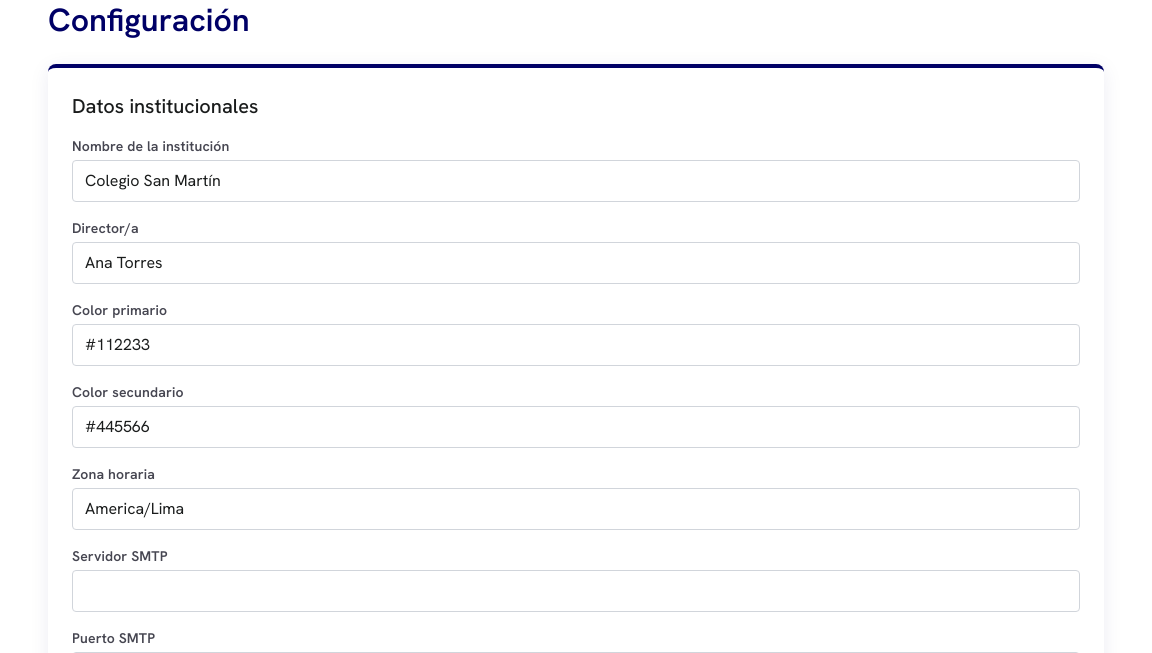
Test case: ConfiguracionPage — carga y wiring de PanelDatosInstitucionales (Fase 12) › [12.3] guardado exitoso incrementa version y remonta el formulario con los valores devueltos
This screenshot has width=1152, height=653.
Replace the text in the field labelled "Nombre de la institución" with "Nombre intentado por el usuario" at (576, 181), box top-left (72, 160), bottom-right (1080, 202)
(page scrolled)
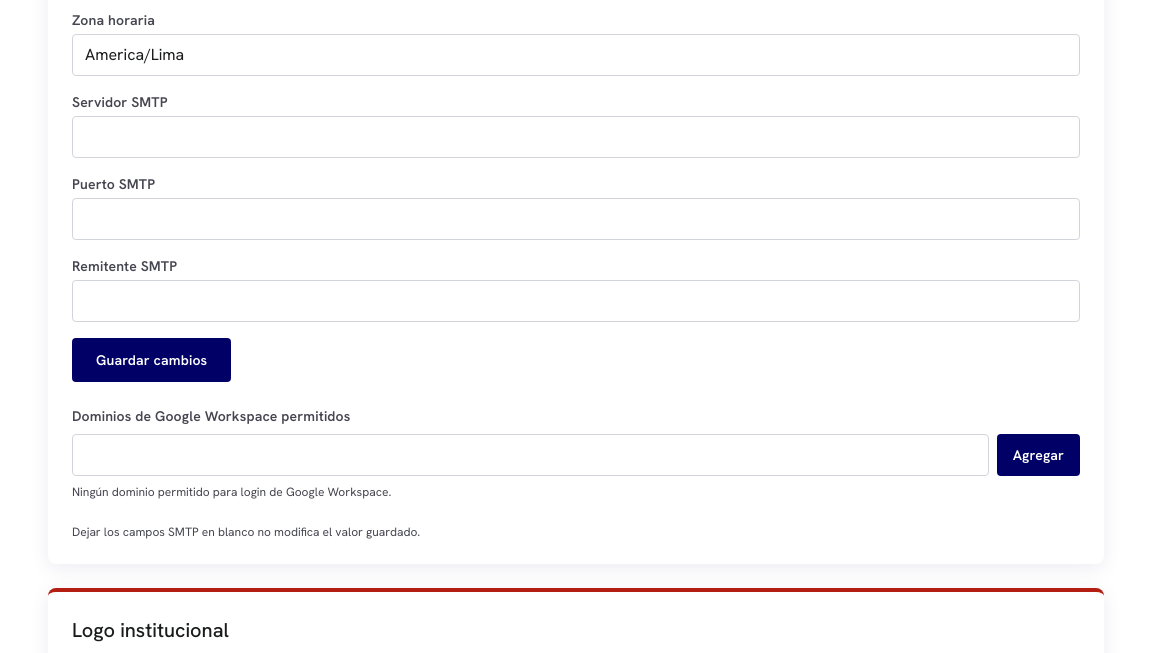
Click the button "Guardar cambios" at (152, 360), box top-left (72, 338), bottom-right (231, 382)
(page scrolled)
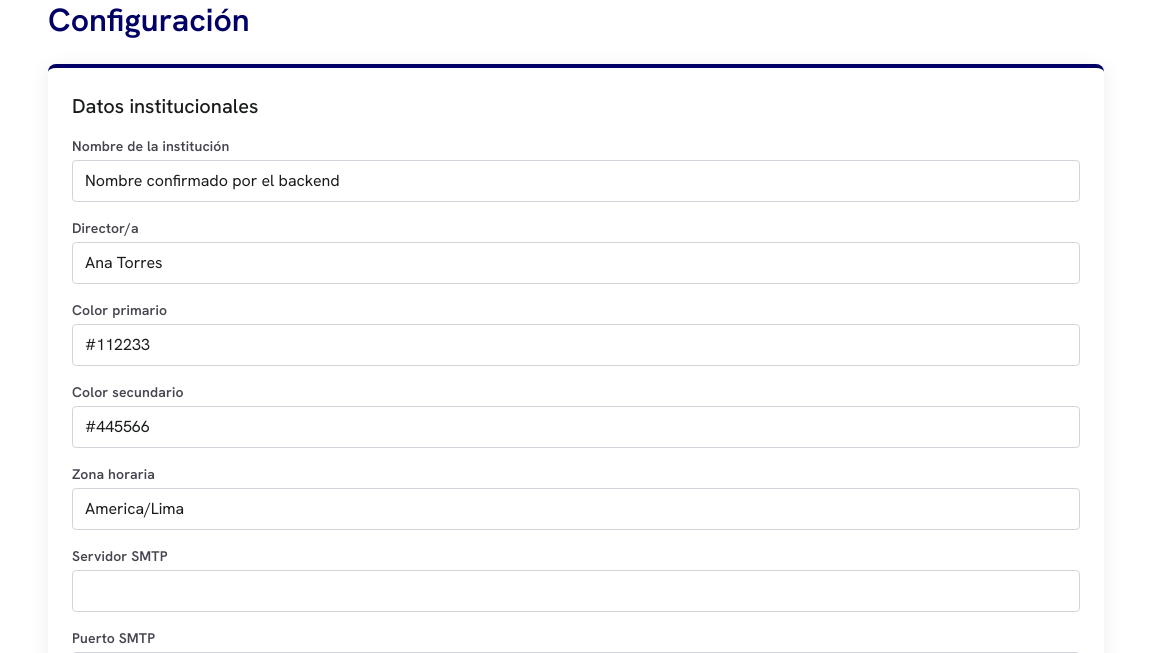
Result: the field labelled "Nombre de la institución" holds "Nombre confirmado por el backend" at top-left (72, 160), bottom-right (1080, 202)
